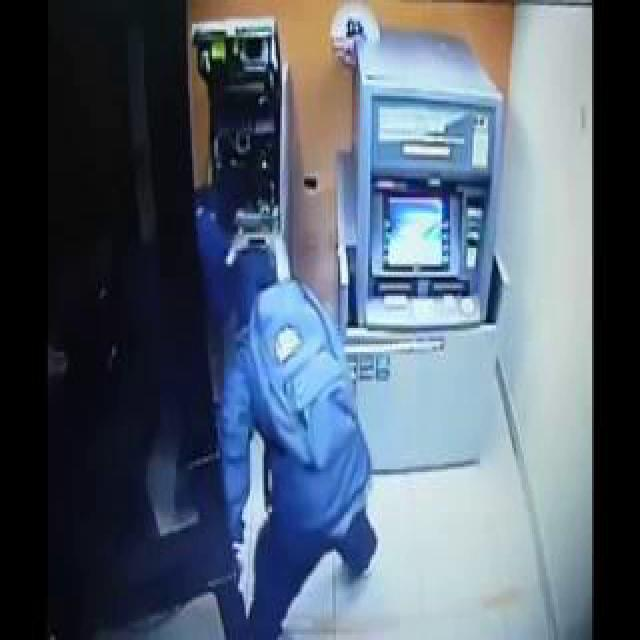burglary: (25, 33, 462, 640)
